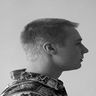ear: (41, 39, 60, 58)
